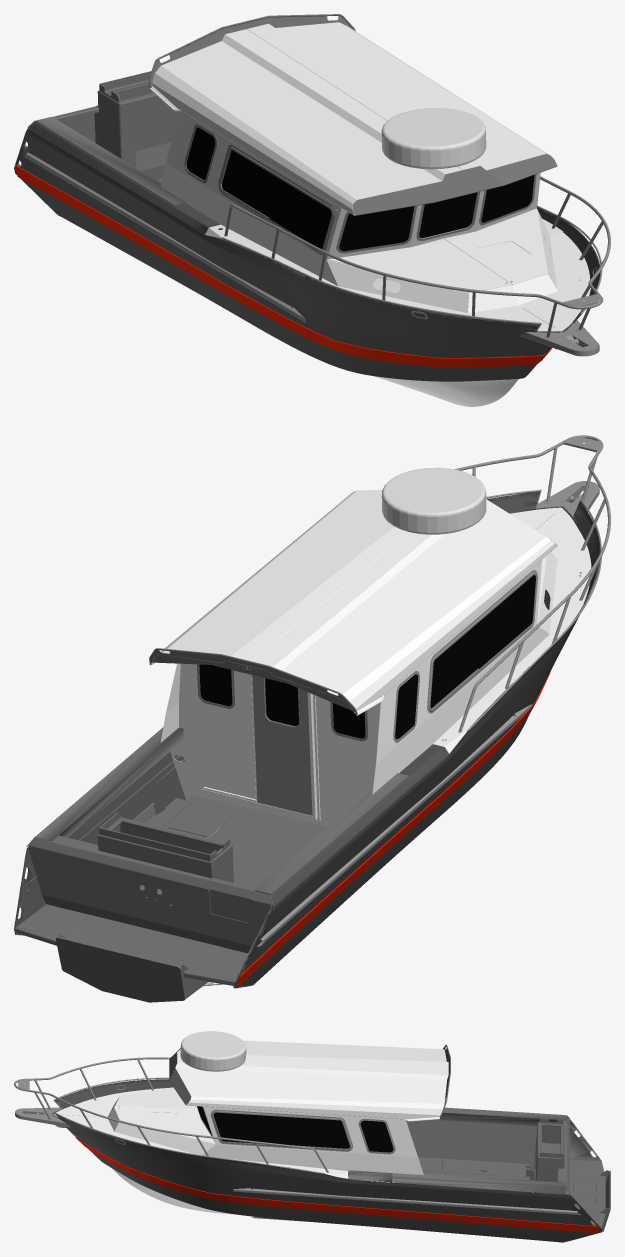
Rendered from GFX.glb.
3 renders of one model, top to bottom at view 1: azimuth 30°, elevation 25°; view 2: azimuth 150°, elevation 25°; view 3: azimuth 270°, elevation 25°, orthographic. The views are drawn at different scales.
Visible parts, largest first — view 1: Hull.001; view 2: Hull.001; view 3: Hull.001.
Boxes of the visible parts, x1,y1,x2,y2 form: Hull.001: (14,14,610,406); Hull.001: (14,435,610,1002); Hull.001: (14,1031,610,1242).
Bounding box in the file's own units: 2.76 × 3.16 × 9.08.
